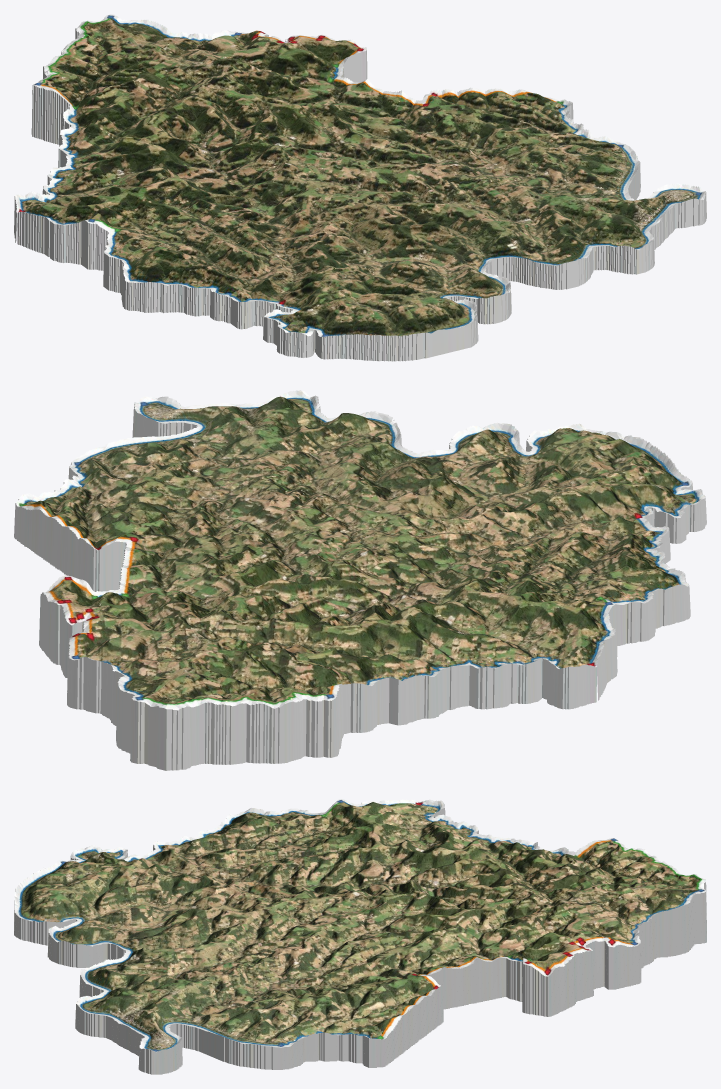
The picture shows the model from 3 angles, top to bottom: view 1: azimuth 30°, elevation 25°; view 2: azimuth 150°, elevation 25°; view 3: azimuth 270°, elevation 25°; orthographic projection. The views are drawn at different scales.
Bounding box in the file's own units: 0.9997 × 0.1026 × 1.2.
Materials: 1 (1 with a texture image).
